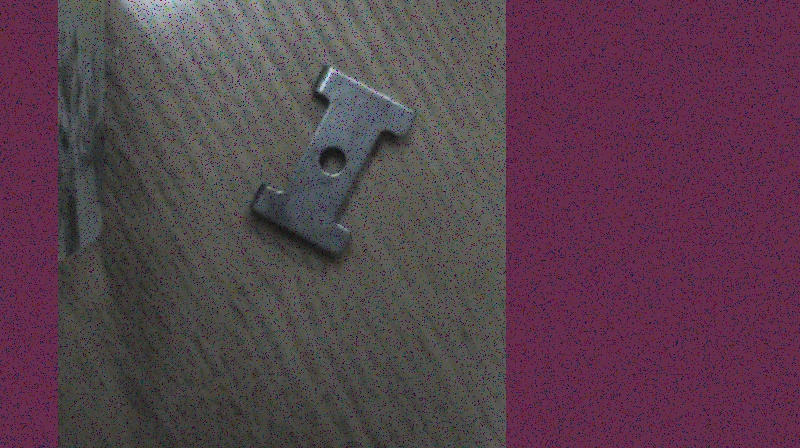O002: (248, 64, 413, 256)
